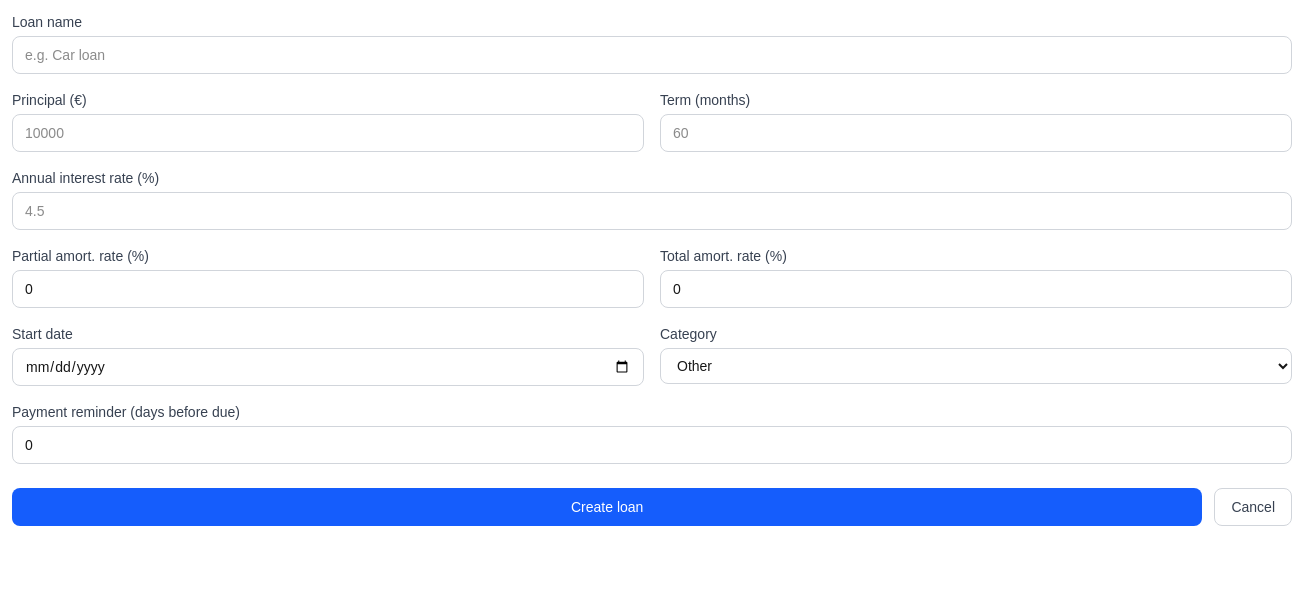
Test: LoanForm (create mode) › shows error message on failed submission
The image size is (1304, 605).
Type "Test" into the field labelled "Loan name" at point(652, 55), box [12, 36, 1292, 74]
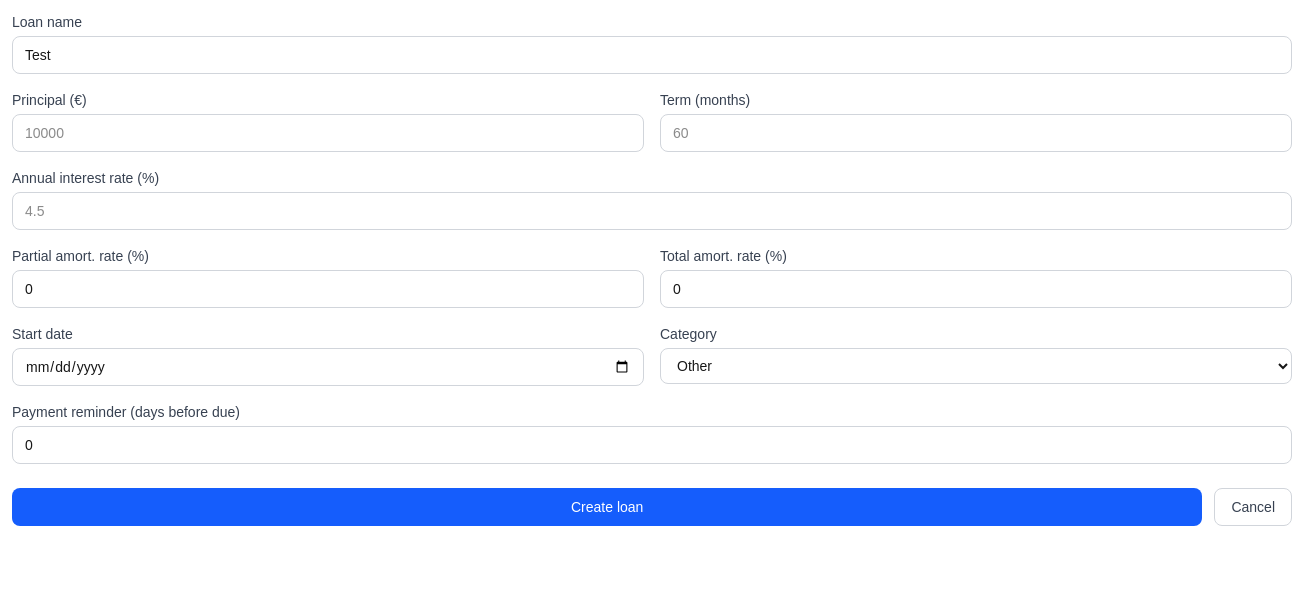
Type "1000" into the number field labelled "Principal (€)" at point(328, 133), box [12, 114, 644, 152]
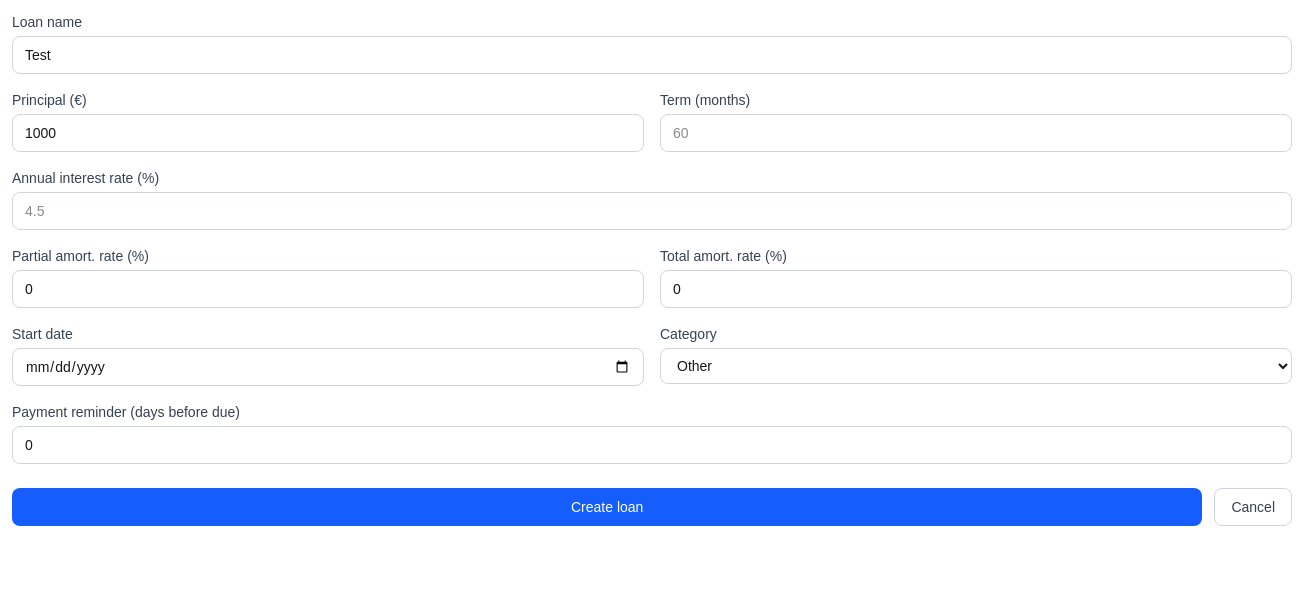
Type "5" into the number field labelled "Annual interest rate (%)" at point(652, 211), box [12, 192, 1292, 230]
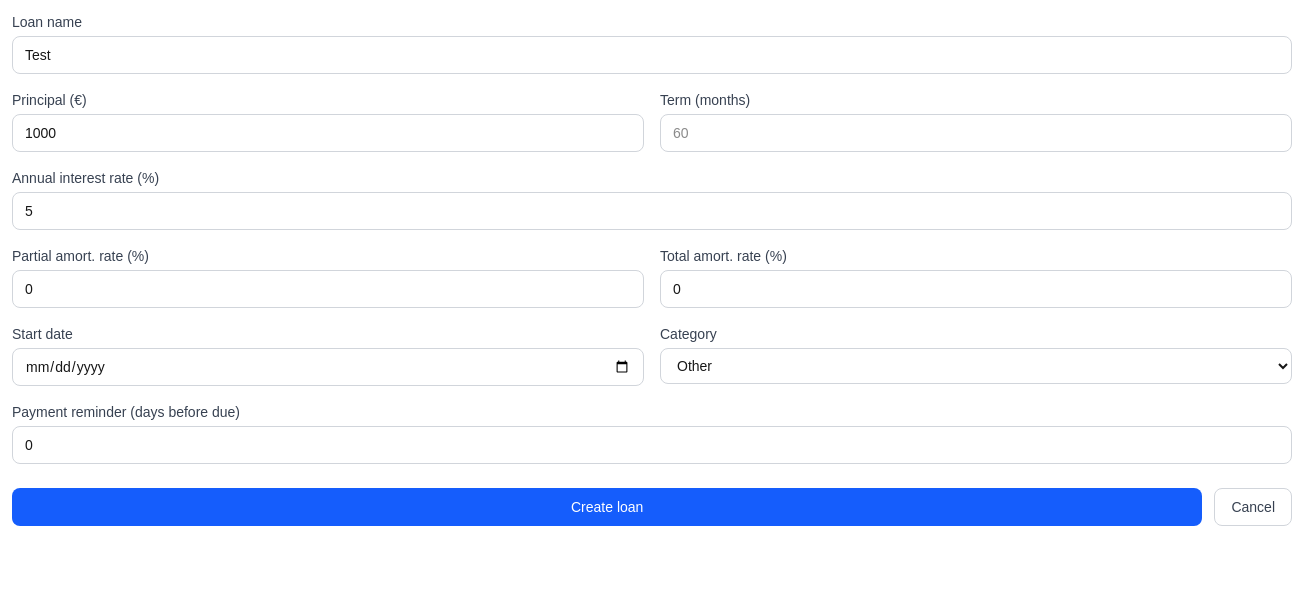
Type "12" into the number field labelled "Term (months)" at point(976, 133), box [660, 114, 1292, 152]
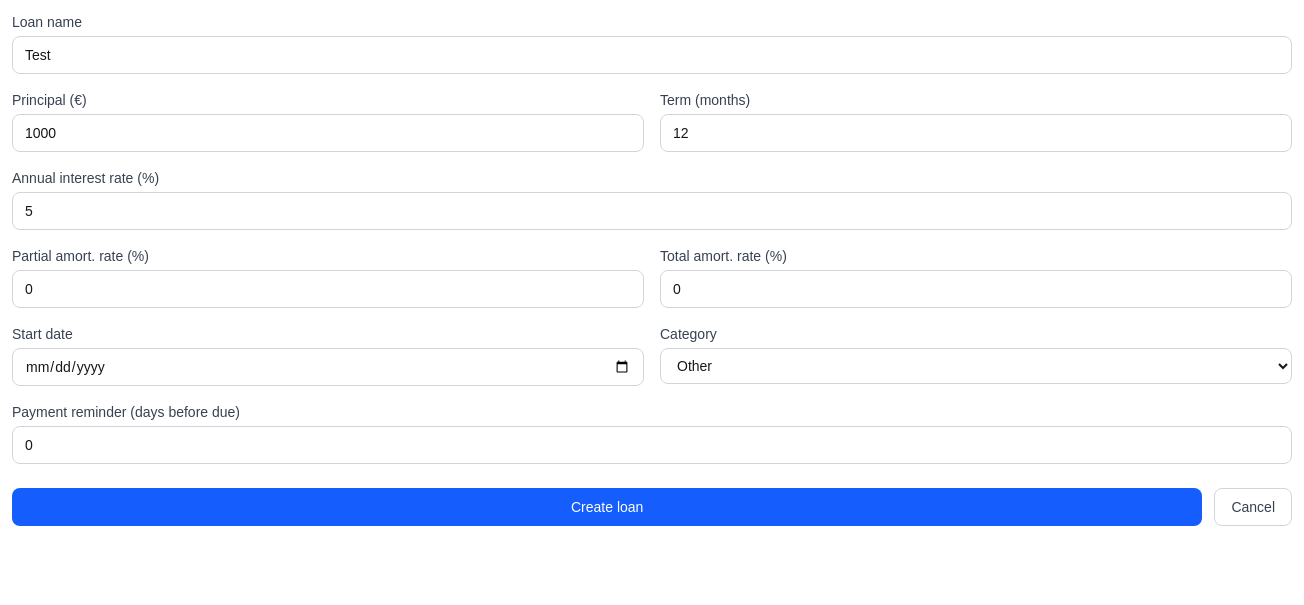
Click the button "Create loan" at point(607, 507), box [12, 488, 1202, 526]
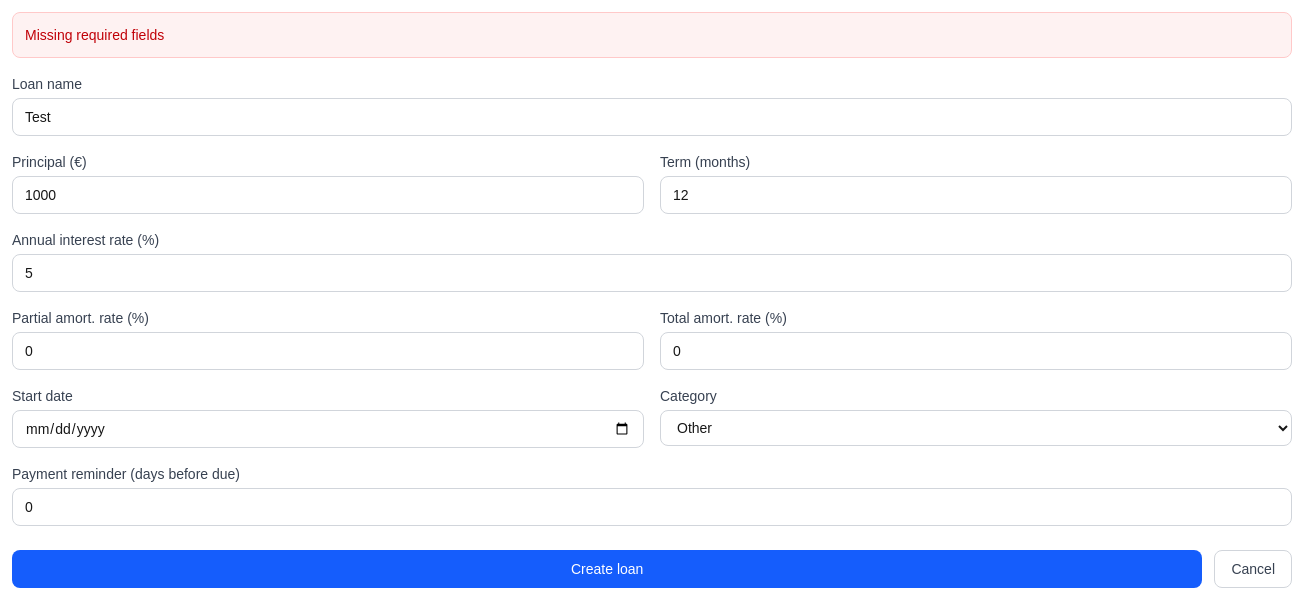
Check: the message reads "Missing required fields", box [25, 27, 164, 43]
